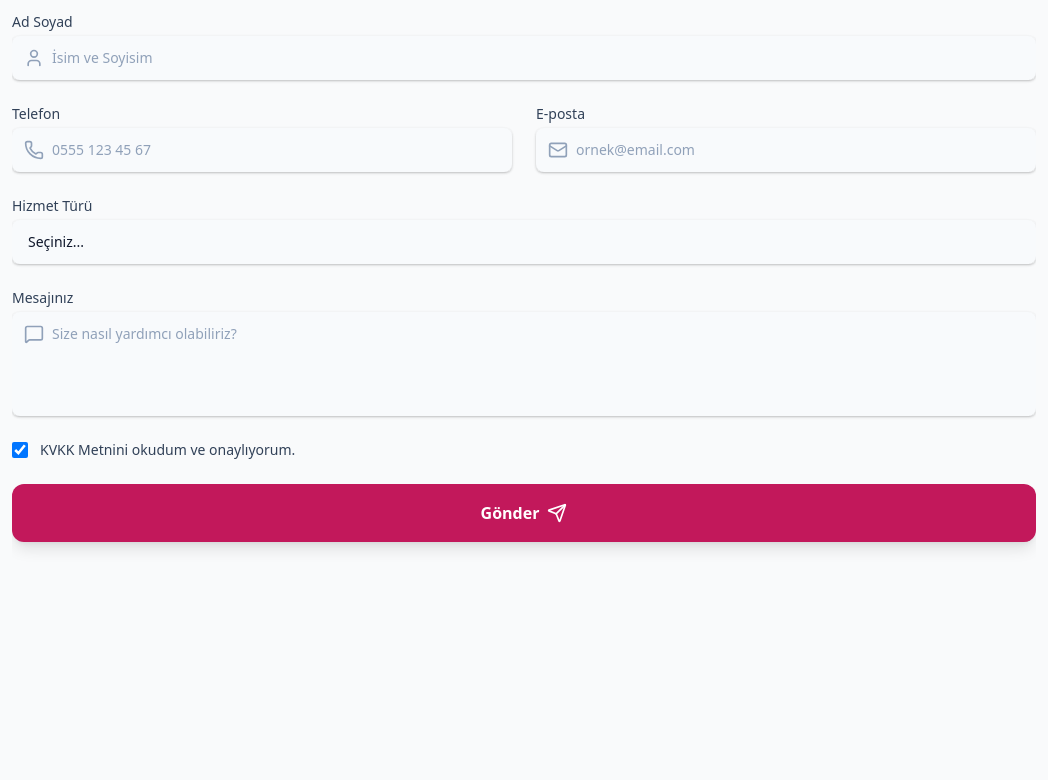
Test case: ContactForm › displays validation error for invalid email
Type "invalid-email" into the field labelled "E-posta". click: (786, 150)
box: [536,128,1036,172]
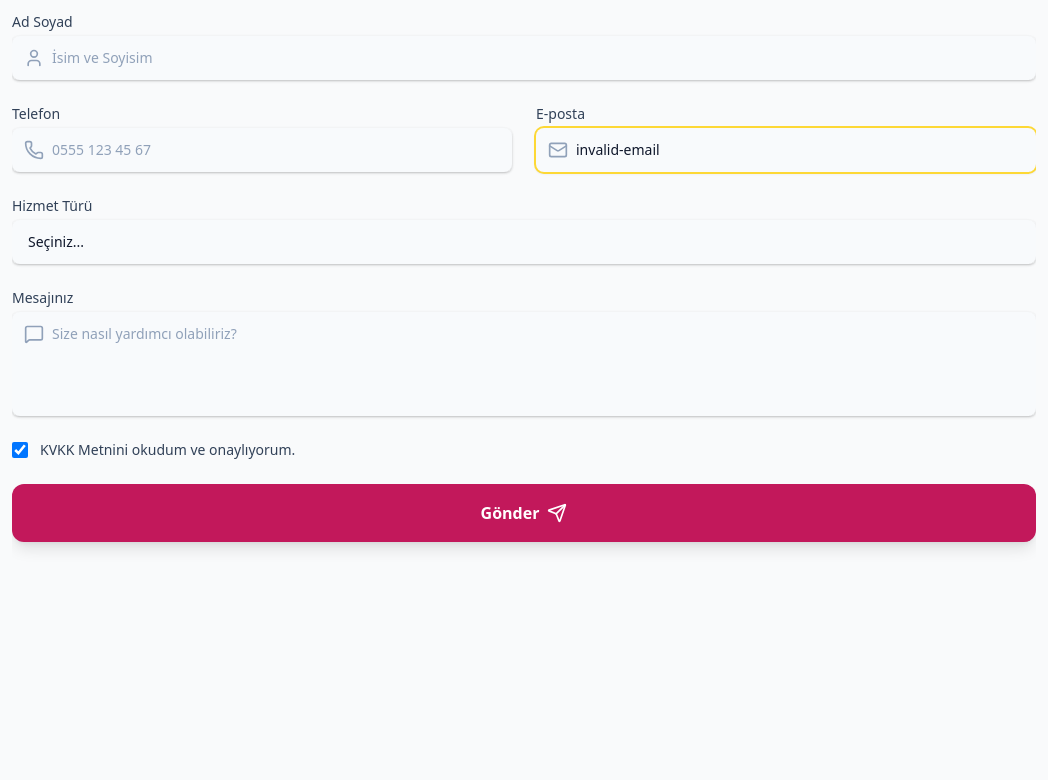
Click the button "Gönder". click: (524, 513)
box: [12,484,1036,542]
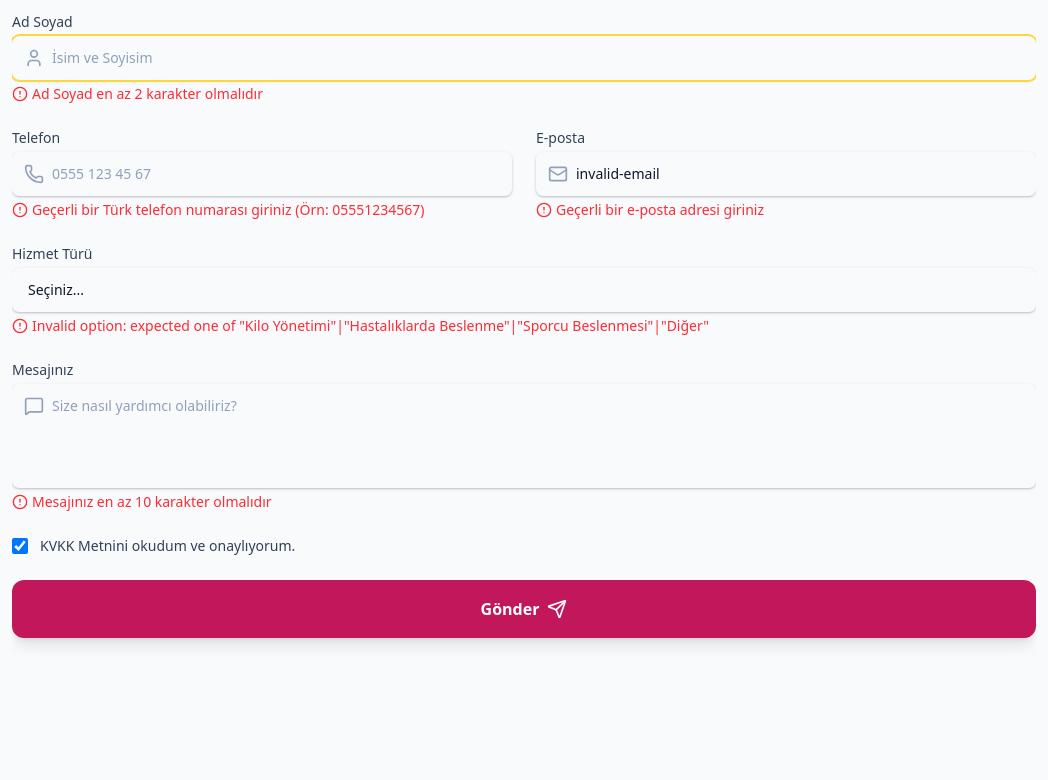
Result: the text "Geçerli bir e-posta adresi giriniz" is shown at [536,200,764,219]
